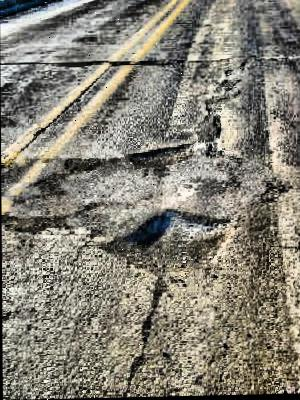pothole: (102, 207, 238, 279), (1, 209, 69, 237), (125, 143, 195, 169), (61, 154, 106, 173)
